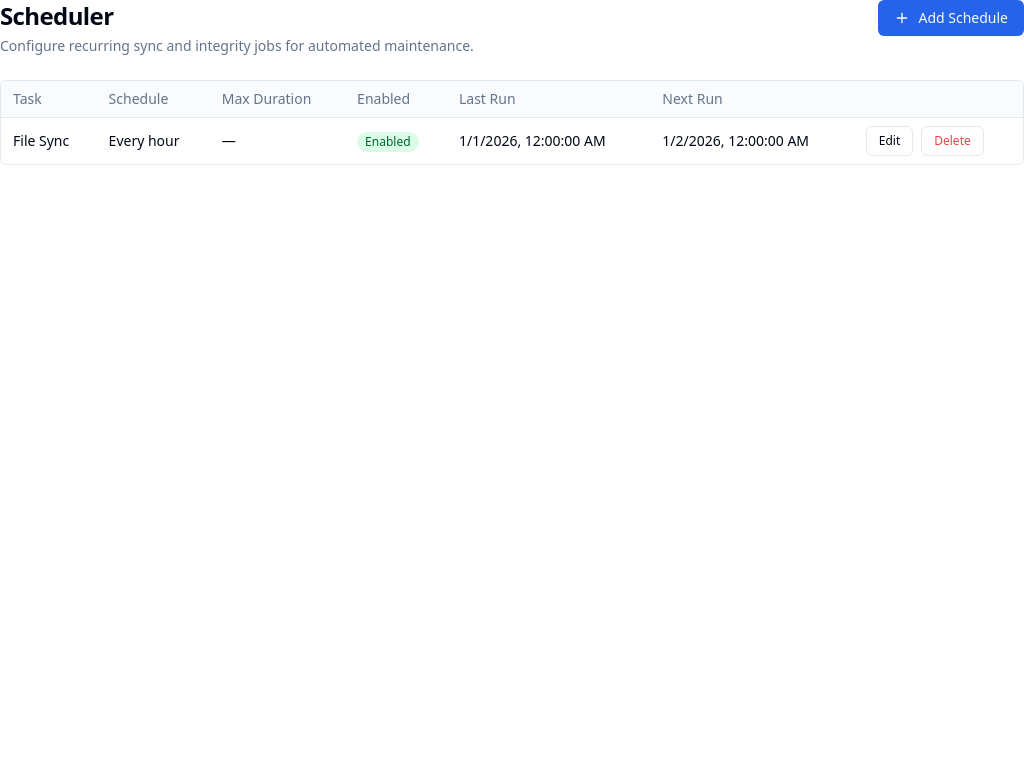
Test: SchedulerPage › edits an existing schedule (changes interval)
Expected: the row with test id "schedule-row-1" is shown, [1,118,1023,164]
Click the button "Edit": (890, 141) [866,126,913,156]
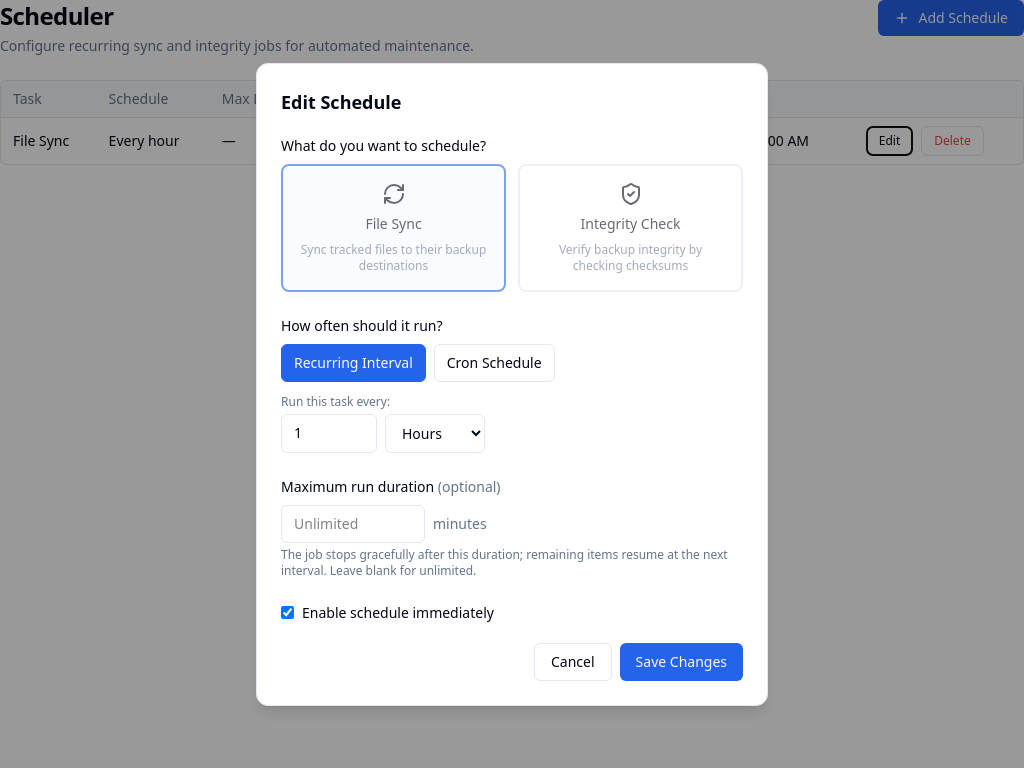
Replace the text in the number field named "Interval value" with "2": (329, 433) [281,414,377,452]
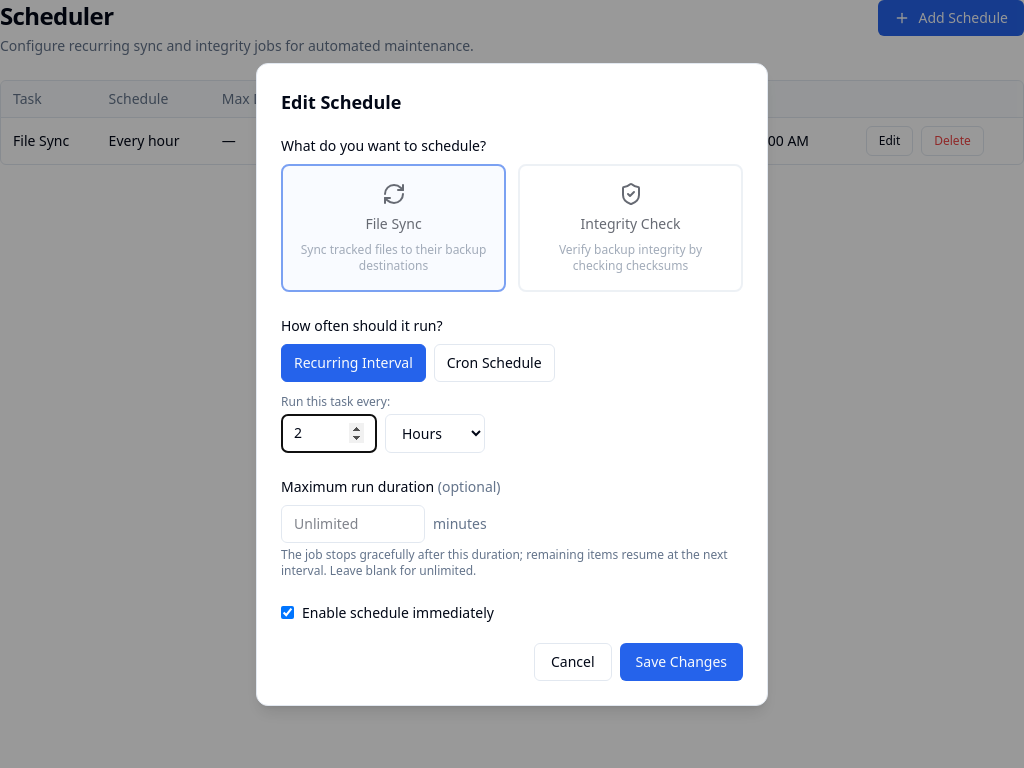
Select "Hours" in the dropdown named "Interval unit": (435, 433) [385,414,485,452]
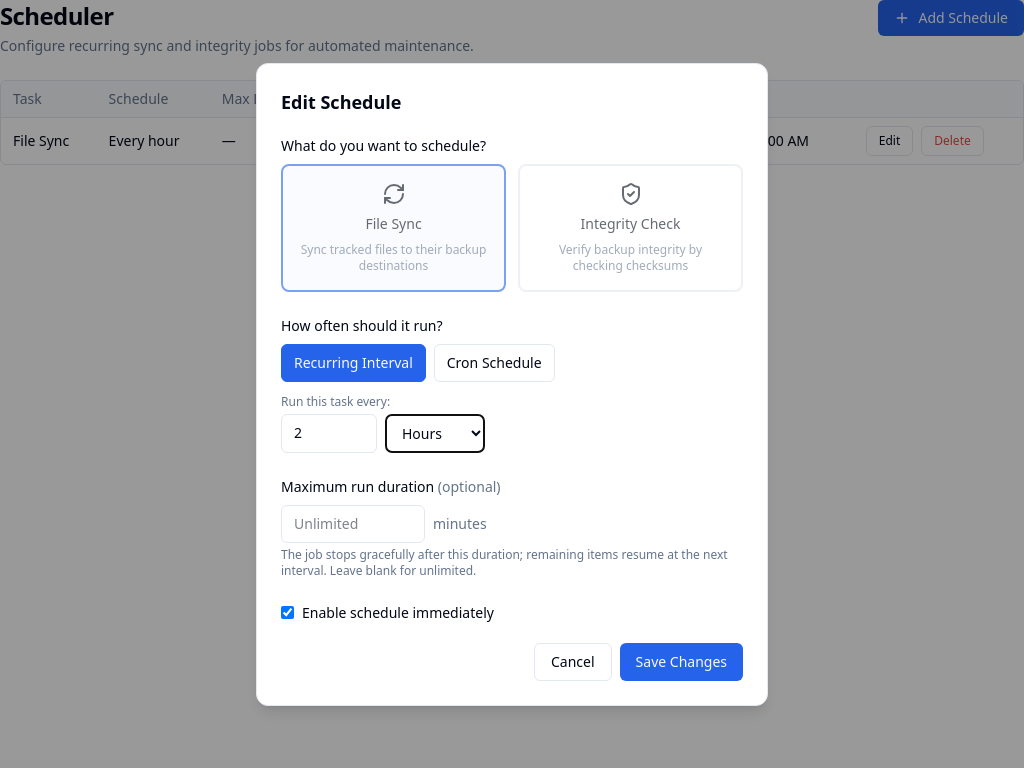
Click the button "Save Changes": (681, 662) [620,642,743,680]
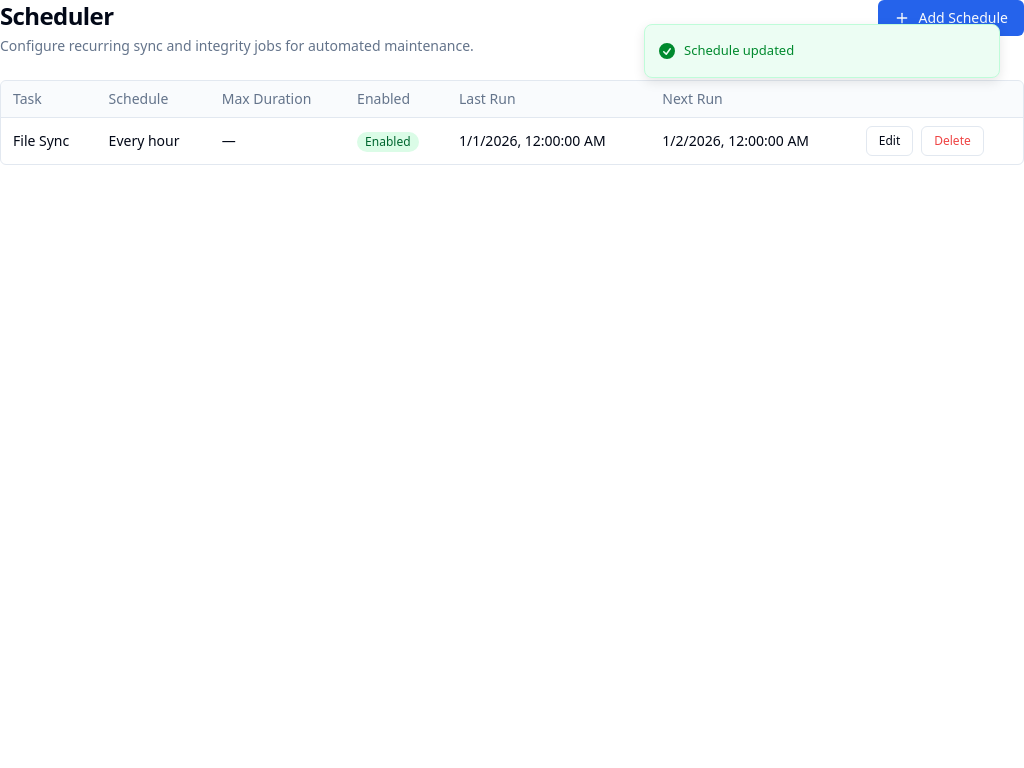
Now the text "Schedule updated" is shown, box [684,41,794,60]
